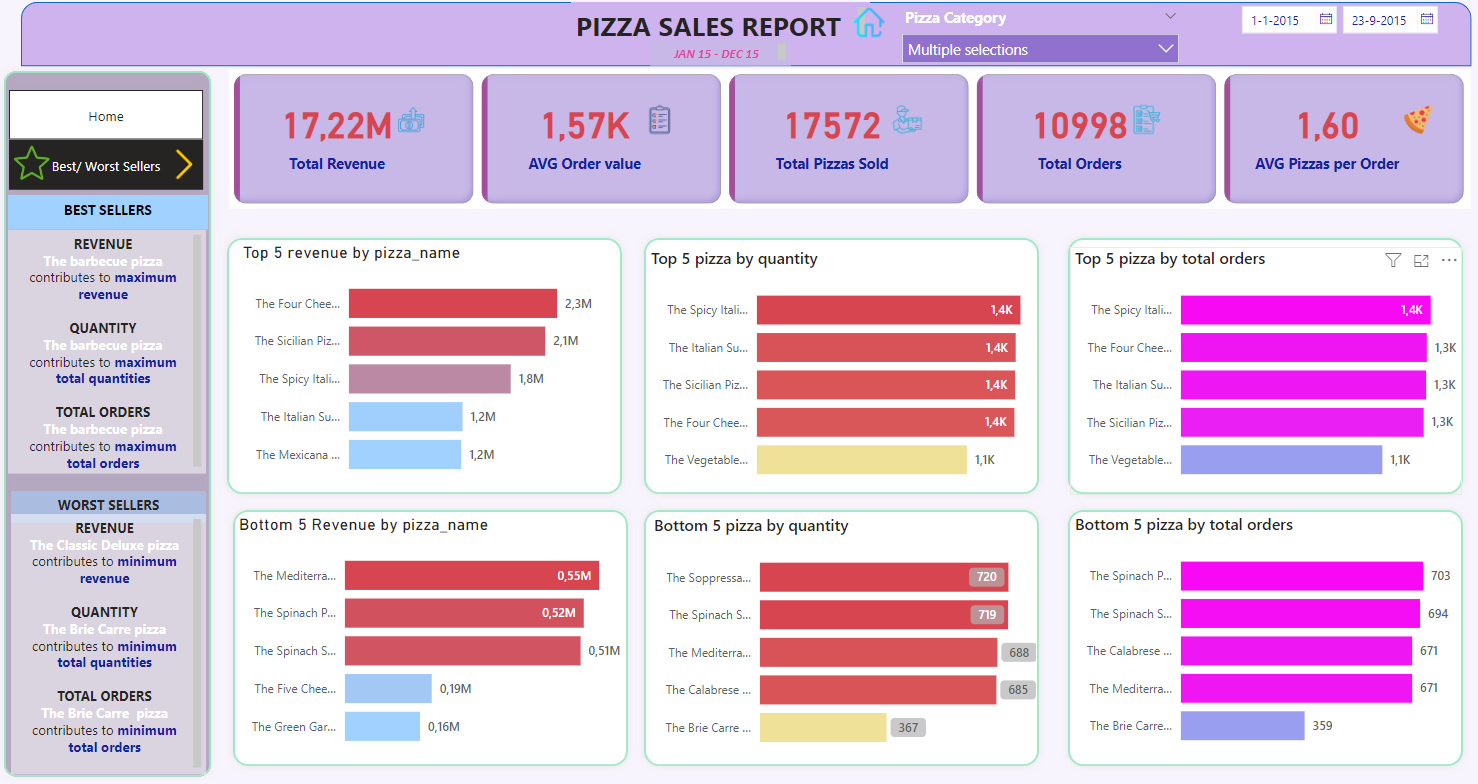

This screenshot's page, from the dashboard's own definition file:
{"tool":"powerbi","page":{"name":"Best/ Worst Sellers","canvas":[1500,820],"ordinal":1},"visuals":[{"type":"shape","box":[0,87.4,225.3,728.7],"z":0},{"type":"shape","box":[25.1,26.2,1464.7,65],"z":1000},{"type":"cardVisual","fields":{"Data":["pizza_sales.Total Revenue","pizza_sales.AVG Order value","pizza_sales.Total Pizzas Sold","pizza_sales.Total Orders","pizza_sales.AVG Pizzas per Order"]},"box":[235.6,94.3,1254,141.4],"z":2000},{"type":"textbox","box":[580.2,26.2,302.1,43.3],"z":3000},{"type":"textbox","box":[660,63.8,142.5,27.4],"z":4000},{"type":"image","box":[853.7,26.2,57,41],"z":5000},{"type":"shape","box":[225.3,256.3,414.9,274.7],"z":6000},{"type":"textbox","box":[12.3,221.5,201.5,35.4],"z":7000},{"type":"textbox","box":[12.3,256.9,200,246.2],"z":8000},{"type":"textbox","box":[15.4,520,196.9,32.3],"z":9000},{"type":"textbox","box":[15.4,543.1,196.9,263.1],"z":10000},{"type":"slicer","fields":{"Values":["pizza_sales.pizza_category"]},"box":[905,26.2,299.8,65],"z":11000},{"type":"slicer","fields":{"Values":["pizza_sales.order_date"]},"box":[1244.8,20.7,255.2,71.3],"z":12000},{"type":"shape","box":[646,256.3,414.9,274.7],"z":13000},{"type":"shape","box":[1074.7,256.3,414.9,274.7],"z":14000},{"type":"shape","box":[231,531,414.9,274.7],"z":15000},{"type":"shape","box":[646,531,414.9,274.7],"z":16000},{"type":"shape","box":[1074.7,531,414.9,274.7],"z":17000},{"type":"barChart","title":"Bottom 5 Revenue by pizza_name","fields":{"Category":["pizza_sales.pizza_name"],"Y":["pizza_sales.Total Revenue"]},"box":[240.3,543.3,395.9,250.4],"z":18000},{"type":"barChart","title":"Top 5 revenue by pizza_name","fields":{"Category":["pizza_sales.pizza_name"],"Y":["pizza_sales.Total Revenue"]},"box":[244.8,269,395.4,250.6],"z":19000},{"type":"barChart","title":"Top 5  pizza by quantity","fields":{"Category":["pizza_sales.pizza_name"],"Y":["pizza_sales.Total Pizzas Sold"]},"box":[656.3,273.6,395.4,250.6],"z":20000},{"type":"barChart","title":"Bottom 5  pizza by quantity","fields":{"Category":["pizza_sales.pizza_name"],"Y":["pizza_sales.Total Pizzas Sold"]},"box":[659.4,543.3,395.9,251.5],"z":21000},{"type":"barChart","title":"Top 5  pizza by total orders","fields":{"Category":["pizza_sales.pizza_name"],"Y":["pizza_sales.Total Orders"]},"box":[1085.1,273.6,395.4,250.6],"z":22000},{"type":"barChart","title":"Bottom 5  pizza by total orders","fields":{"Category":["pizza_sales.pizza_name"],"Y":["pizza_sales.Total Orders"]},"box":[1085.1,542.5,395.4,250.6],"z":23000},{"type":"pageNavigator","box":[12.6,165.5,196.6,50.6],"z":24000},{"type":"pageNavigator","box":[12.6,114.9,196.6,50.6],"z":25000},{"type":"image","box":[170.1,170.1,41.4,41.4],"z":26000},{"type":"image","box":[12.6,165.5,46,46],"z":27000}]}

Visuals, with their boxes on the page's 1500x820 design canvas (x1, y1, x2, y2). These are canvas units, not pixel positions in the 1478x784 screenshot, which may show the page scaled, cropped or inside an application window:
shape: detection(0, 87, 225, 816)
shape: detection(25, 26, 1490, 91)
cardVisual - pizza_sales.Total Revenue x pizza_sales.AVG Order value: detection(236, 94, 1490, 236)
textbox: detection(580, 26, 882, 70)
textbox: detection(660, 64, 802, 91)
image: detection(854, 26, 911, 67)
shape: detection(225, 256, 640, 531)
textbox: detection(12, 222, 214, 257)
textbox: detection(12, 257, 212, 503)
textbox: detection(15, 520, 212, 552)
textbox: detection(15, 543, 212, 806)
slicer - pizza_sales.pizza_category: detection(905, 26, 1205, 91)
slicer - pizza_sales.order_date: detection(1245, 21, 1500, 92)
shape: detection(646, 256, 1061, 531)
shape: detection(1075, 256, 1490, 531)
shape: detection(231, 531, 646, 806)
shape: detection(646, 531, 1061, 806)
shape: detection(1075, 531, 1490, 806)
"Bottom 5 Revenue by pizza_name" barChart: detection(240, 543, 636, 794)
"Top 5 revenue by pizza_name" barChart: detection(245, 269, 640, 520)
"Top 5  pizza by quantity" barChart: detection(656, 274, 1052, 524)
"Bottom 5  pizza by quantity" barChart: detection(659, 543, 1055, 795)
"Top 5  pizza by total orders" barChart: detection(1085, 274, 1480, 524)
"Bottom 5  pizza by total orders" barChart: detection(1085, 542, 1480, 793)
pageNavigator: detection(13, 166, 209, 216)
pageNavigator: detection(13, 115, 209, 166)
image: detection(170, 170, 212, 212)
image: detection(13, 166, 59, 212)
